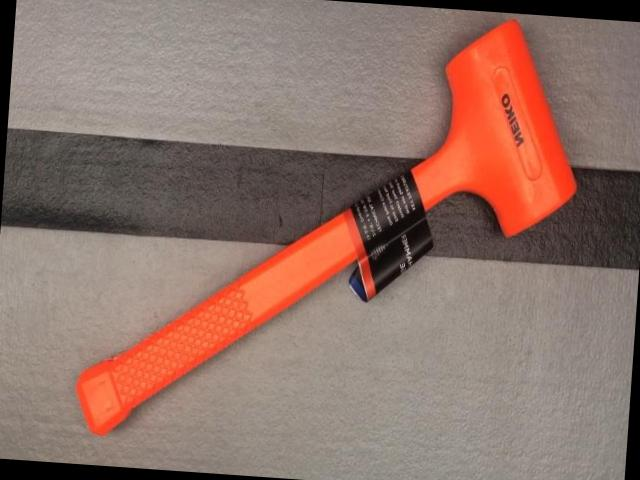hammer: (71, 0, 586, 466)
